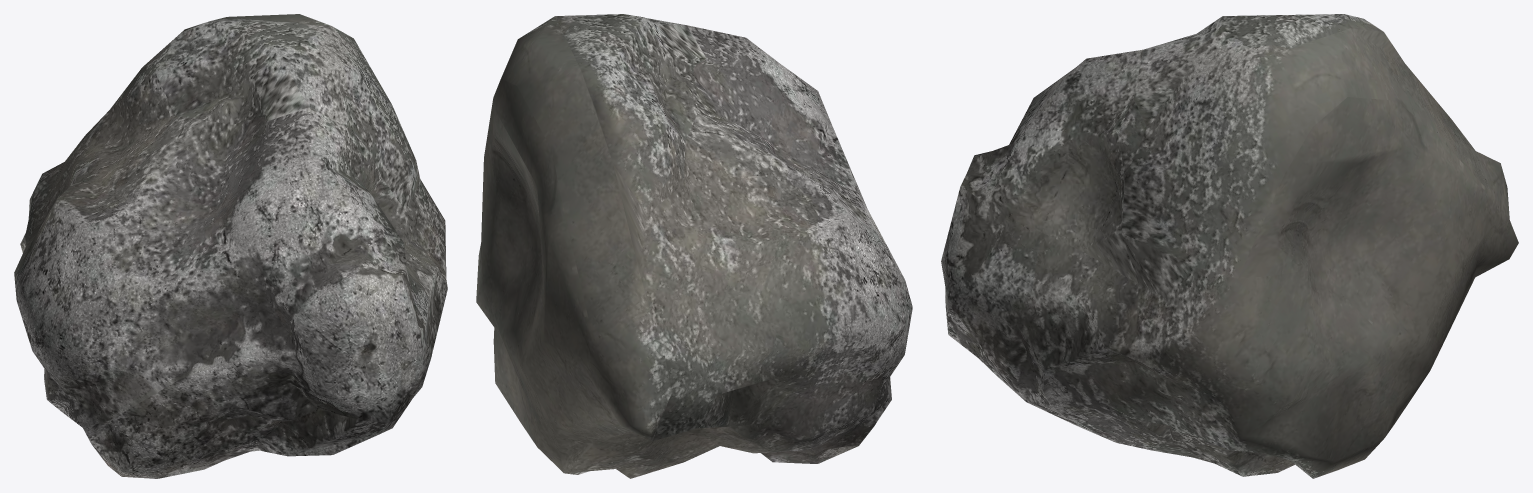
Rendered from rockAA.glb.
3 renders of one model, left to right at view 1: azimuth 30°, elevation 25°; view 2: azimuth 150°, elevation 25°; view 3: azimuth 270°, elevation 25°, orthographic. The views are drawn at different scales.
Parts seen in each view (by area): view 1: rockAA; view 2: rockAA; view 3: rockAA.
Part boxes in pixels (x1=…): rockAA: x1=14, y1=14, x2=447, y2=478; rockAA: x1=476, y1=14, x2=912, y2=478; rockAA: x1=941, y1=14, x2=1518, y2=478.
Bounding box in the file's own units: 0.1681 × 0.164 × 0.1866.
1 material, 1 textured.
